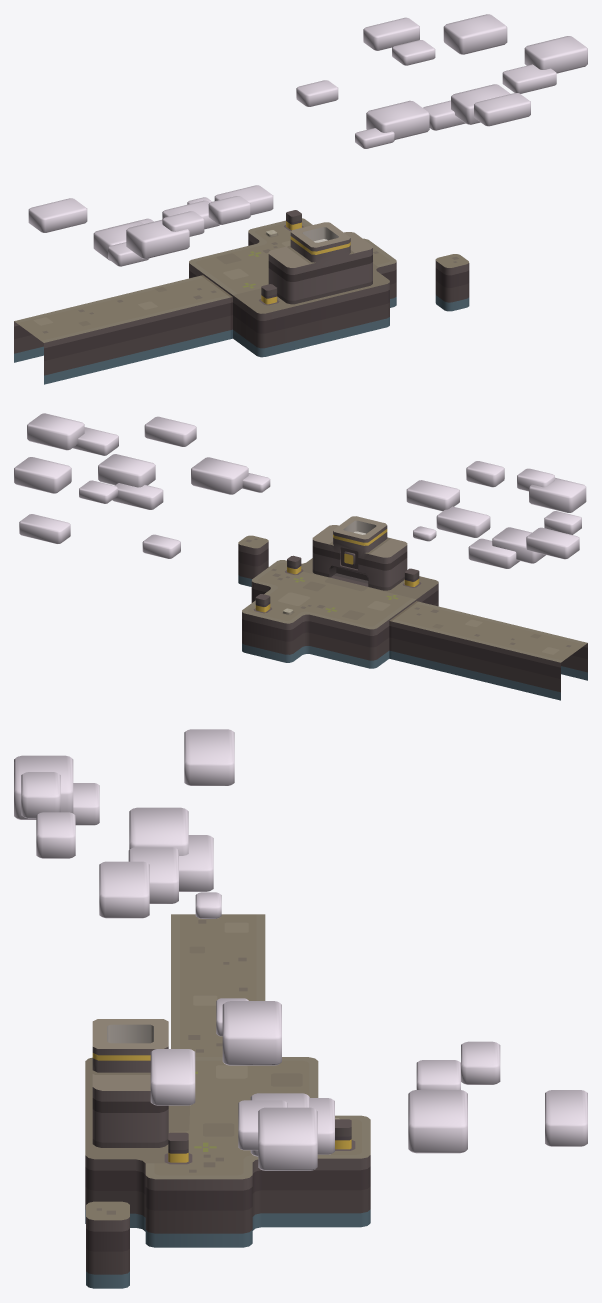
File: Happenstance Island.obj
The picture shows the model from 3 angles, top to bottom: view 1: azimuth 30°, elevation 25°; view 2: azimuth 150°, elevation 25°; view 3: azimuth 270°, elevation 25°; orthographic projection. The views are drawn at different scales.
Parts seen in each view (by area): view 1: island_happenstance_base, island_happenstance_cloud, island_happenstance_flora; view 2: island_happenstance_base, island_happenstance_cloud, island_happenstance_flora; view 3: island_happenstance_base, island_happenstance_cloud, island_happenstance_flora.
Boxes of the visible parts, left/top/right/bottom form: island_happenstance_base: left=14, top=218, right=469, bottom=384; island_happenstance_cloud: left=28, top=14, right=587, bottom=266; island_happenstance_flora: left=33, top=210, right=458, bottom=333; island_happenstance_base: left=238, top=535, right=587, bottom=700; island_happenstance_cloud: left=14, top=413, right=586, bottom=568; island_happenstance_flora: left=245, top=516, right=571, bottom=654; island_happenstance_base: left=85, top=914, right=370, bottom=1288; island_happenstance_cloud: left=14, top=729, right=587, bottom=1170; island_happenstance_flora: left=92, top=920, right=355, bottom=1214.
Size of what is drawn, in the model's own units: 41.35 by 12.15 by 22.71.
